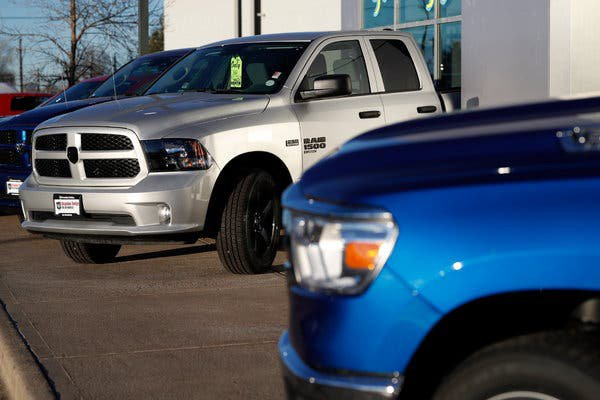car: (24, 32, 458, 278), (285, 96, 599, 394), (2, 37, 209, 217)
